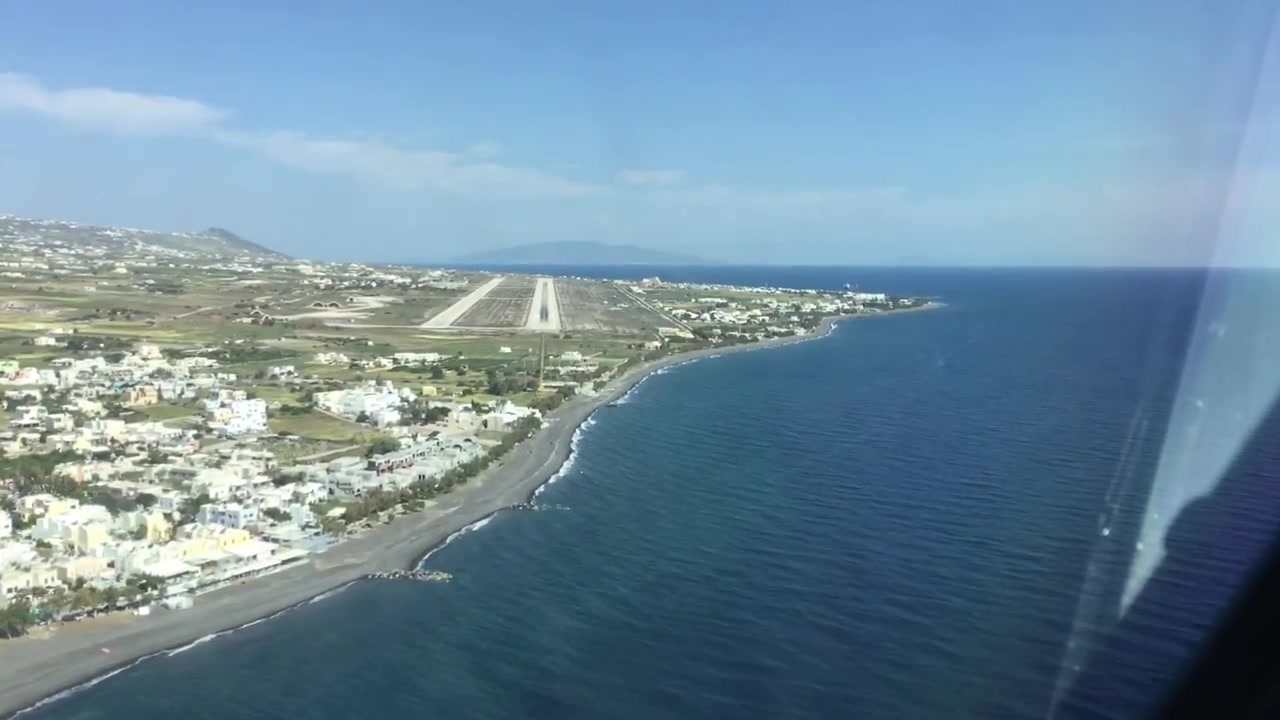runway: (417, 275, 506, 330), (524, 277, 562, 331)
